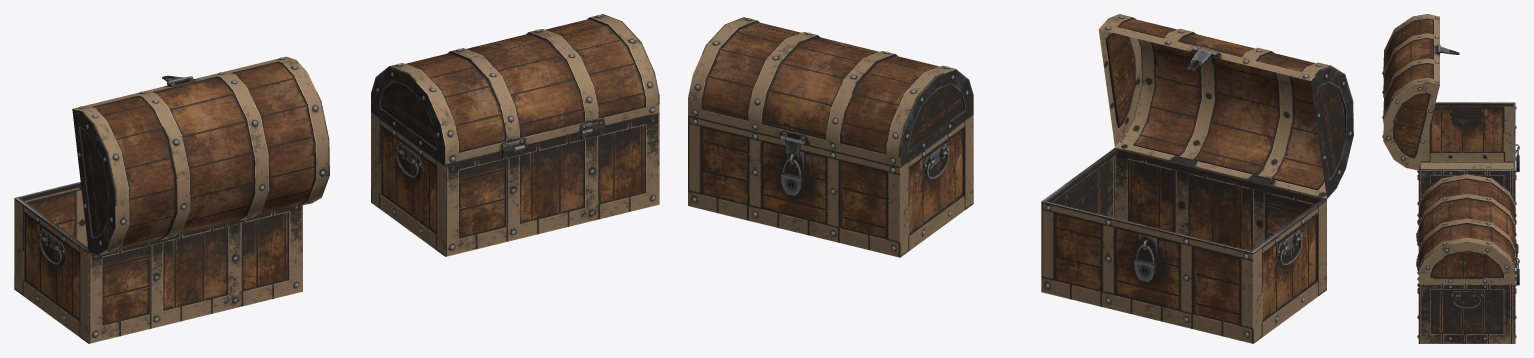
File: chest_11mb.glb
The picture shows the model from 3 angles, left to right: view 1: azimuth 30°, elevation 25°; view 2: azimuth 150°, elevation 25°; view 3: azimuth 270°, elevation 25°; orthographic projection. The views are drawn at different scales.
Bounding box in the file's own units: 1156 × 437 × 367.
Materials: 1 (1 with a texture image).
